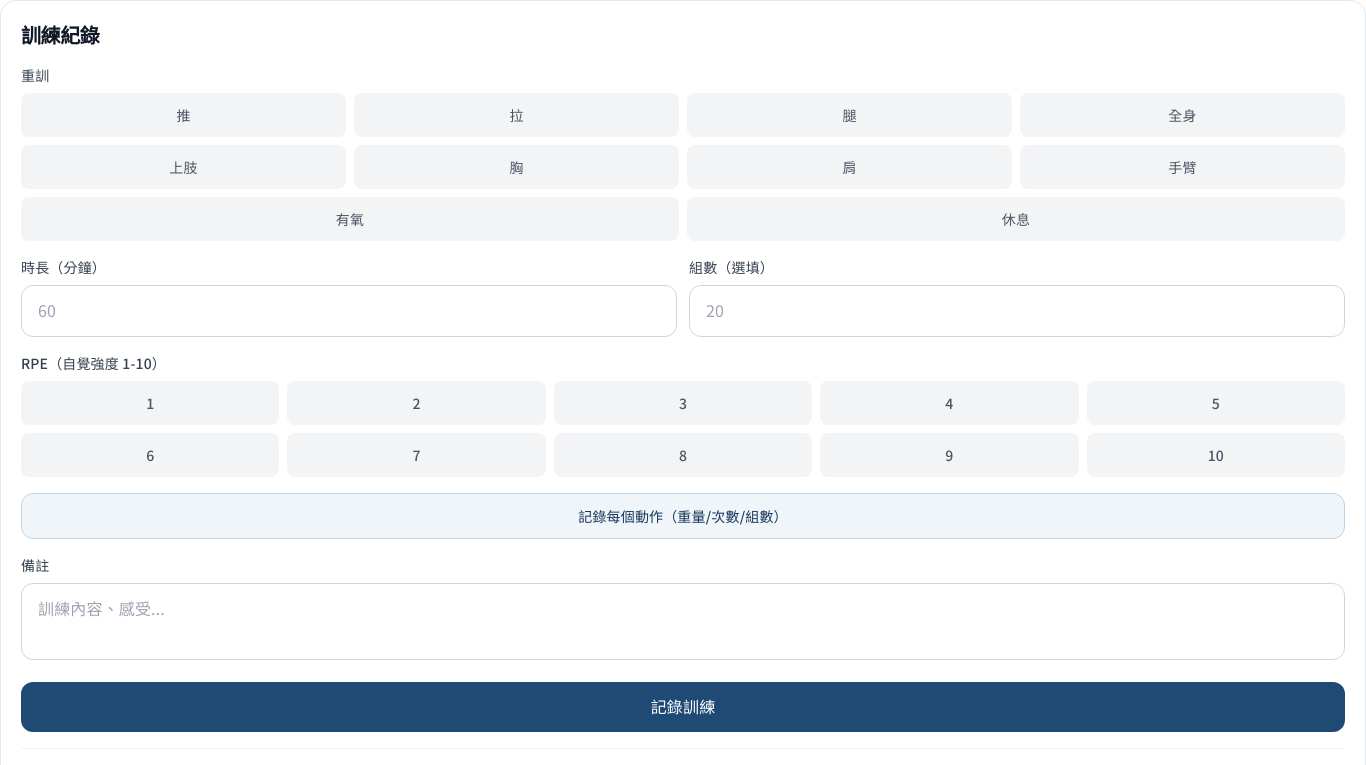
Scenario: TrainingLog › hides duration and RPE inputs when rest is selected
Click the button "休息" at (1016,219), box [687,197,1345,241]
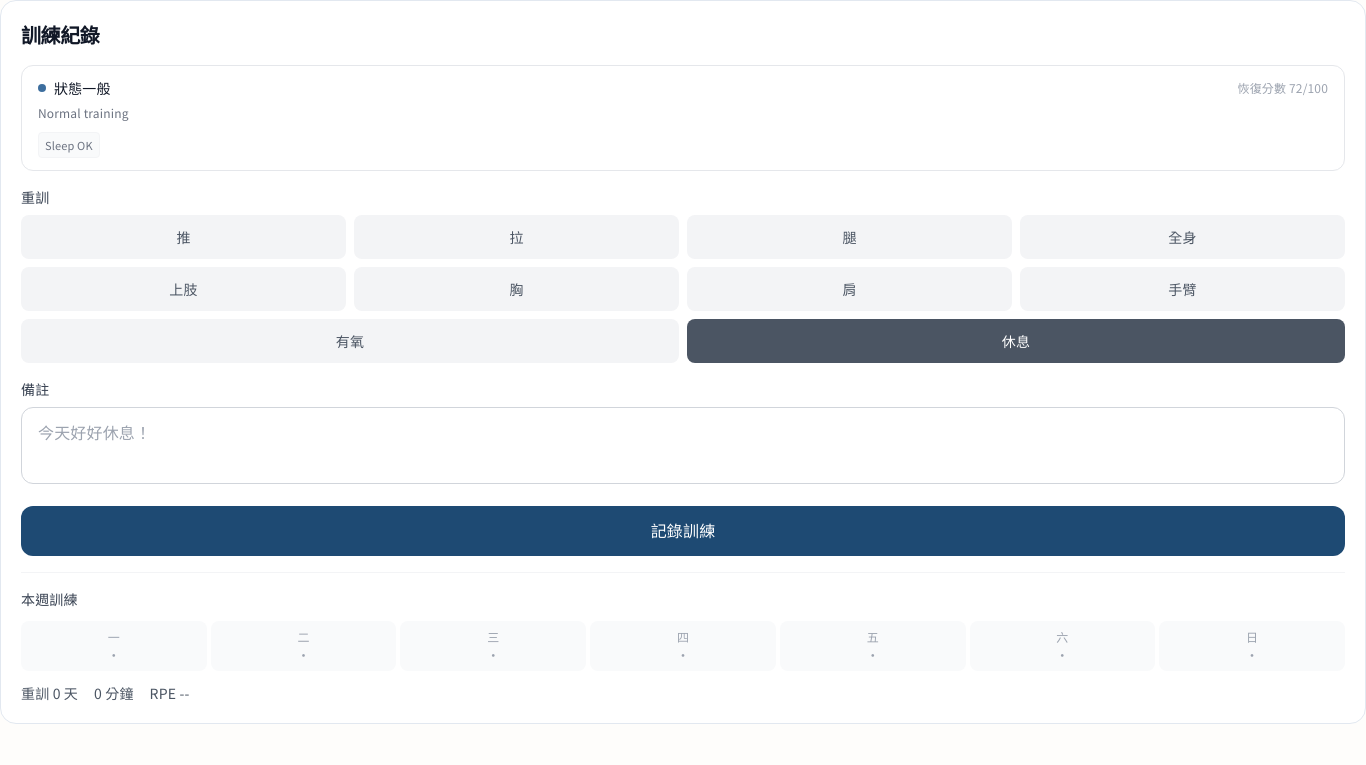
Expected: the number field with placeholder "60" is gone
